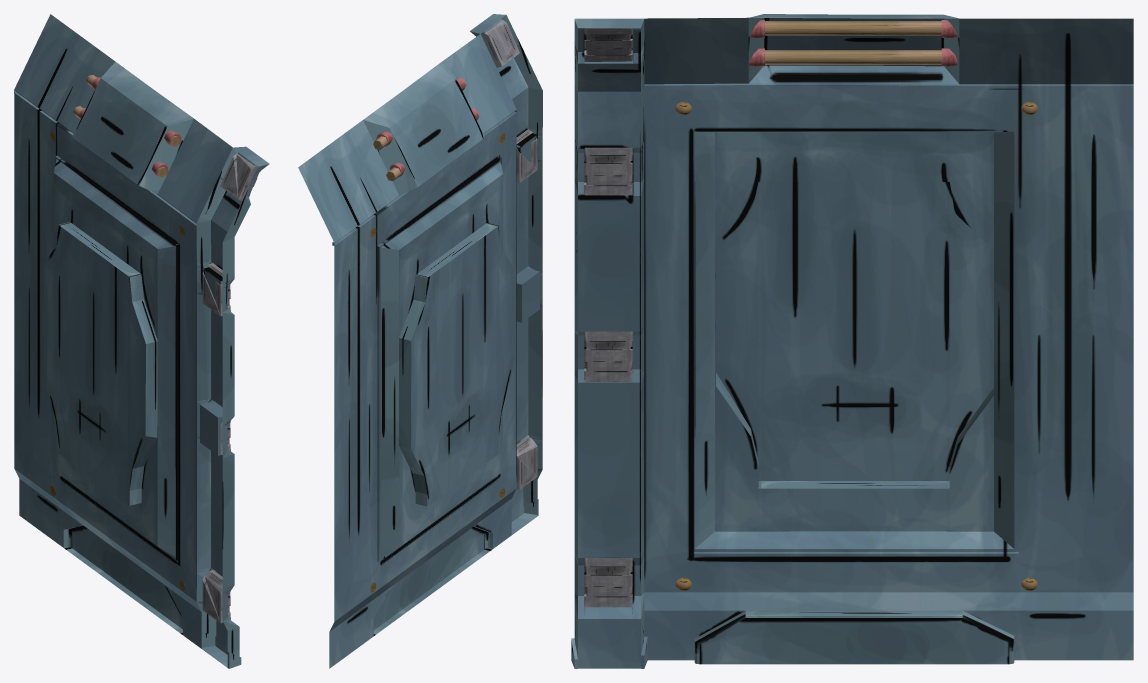
Rendered from TwoStoryWall.FBX.
3 renders of one model, left to right at view 1: azimuth 30°, elevation 25°; view 2: azimuth 150°, elevation 25°; view 3: azimuth 270°, elevation 25°, orthographic. The views are drawn at different scales.
Parts seen in each view (by area): view 1: Plane005, Box003, Box007, Box006; view 2: Plane005, Box003, Box007, Box006; view 3: Plane005, Cylinder001, Cylinder007, Box008, Box007, Box006, Box003.
Part boxes in pixels (x1,y1,x2,y2): Plane005: (14, 14, 269, 668); Box003: (220, 153, 260, 200); Box007: (202, 570, 230, 623); Box006: (202, 263, 230, 316); Plane005: (298, 14, 542, 668); Box003: (481, 20, 519, 67); Box007: (516, 437, 537, 489); Box006: (516, 130, 537, 183); Plane005: (571, 14, 1133, 668); Cylinder001: (765, 21, 941, 35); Cylinder007: (765, 50, 941, 64); Box008: (584, 331, 632, 381); Box007: (584, 558, 632, 607); Box006: (584, 147, 632, 195); Box003: (584, 28, 632, 61).
Bounding box in the file's own units: 25.69 × 128 × 167.
Materials: 5 (5 with a texture image).
